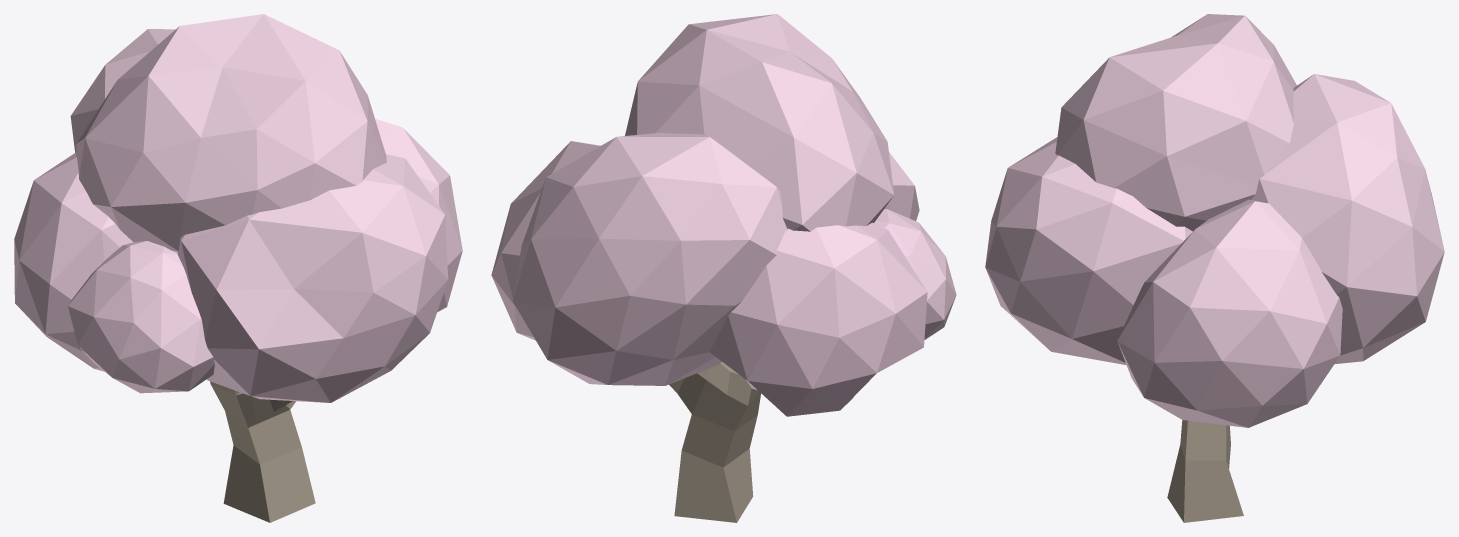
Rendered from OakTree3Light2.fbx.
3 renders of one model, left to right at view 1: azimuth 30°, elevation 25°; view 2: azimuth 150°, elevation 25°; view 3: azimuth 270°, elevation 25°, orthographic. The views are drawn at different scales.
Visible parts, largest first — view 1: OakTree3; view 2: OakTree3; view 3: OakTree3.
Part boxes in pixels (left/top/right/bottom): OakTree3: left=14, top=14, right=462, bottom=522; OakTree3: left=491, top=14, right=956, bottom=522; OakTree3: left=985, top=14, right=1444, bottom=522.
Size of the model in its own units: 1382 by 1584 by 1423.
